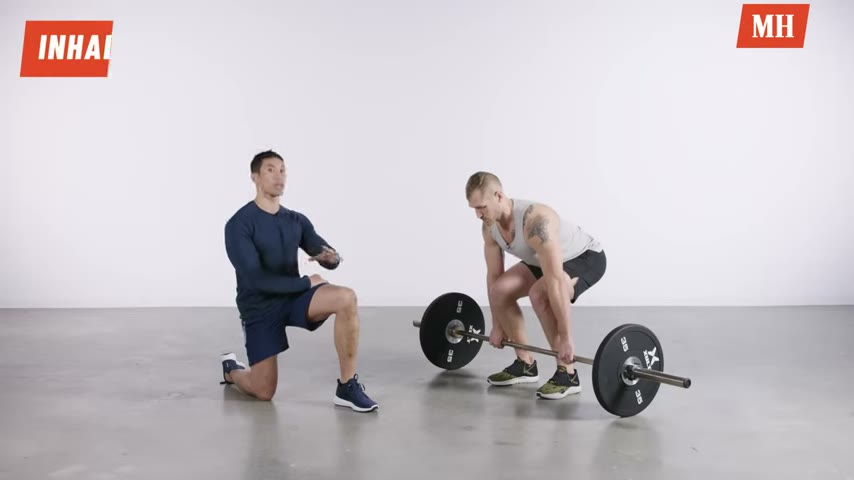barbell_plate_side: (411, 290, 486, 419), (615, 315, 696, 426)
